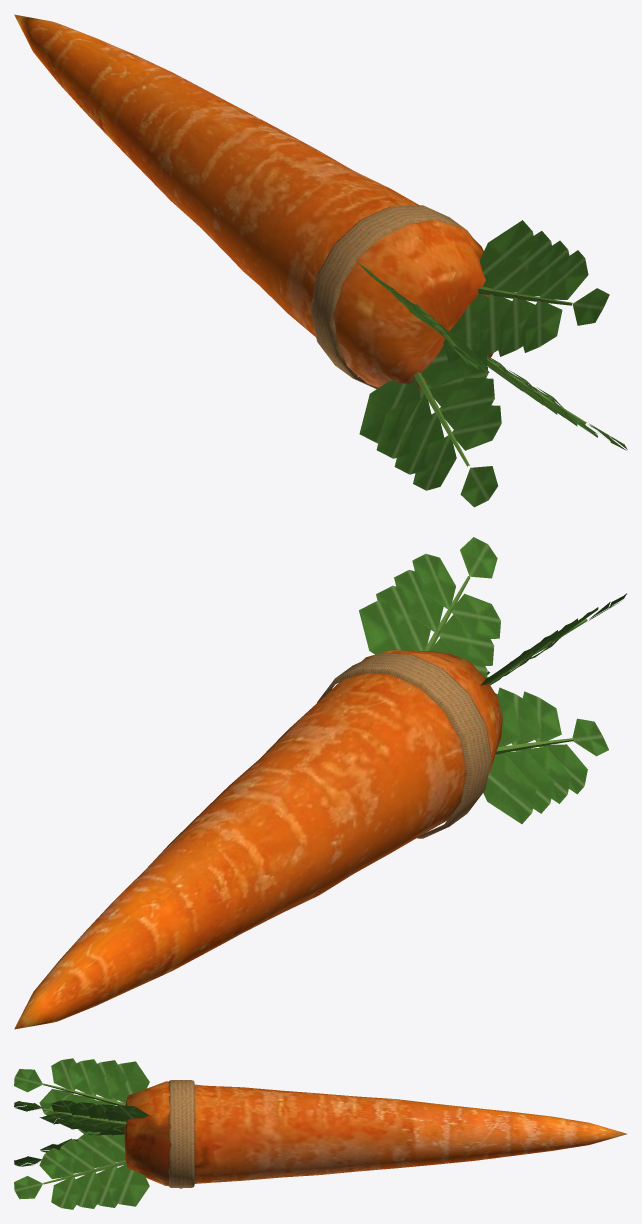
File: carrot_rocket.glb
3 renders of one model, top to bottom at view 1: azimuth 30°, elevation 25°; view 2: azimuth 150°, elevation 25°; view 3: azimuth 270°, elevation 25°, orthographic. The views are drawn at different scales.
Visible parts, largest first — view 1: carrot_rocket; view 2: carrot_rocket; view 3: carrot_rocket.
Boxes of the visible parts, left/top/right/bottom form: carrot_rocket: left=14, top=14, right=627, bottom=507; carrot_rocket: left=14, top=537, right=626, bottom=1029; carrot_rocket: left=14, top=1058, right=626, bottom=1209.
Bounding box in the file's own units: 0.1035 × 0.1035 × 0.5136.
1 material, 1 textured.
